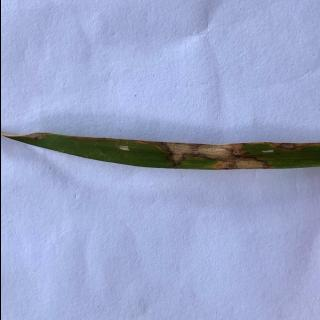Hawar-Daun: (128, 139, 274, 171), (260, 142, 320, 152), (0, 132, 54, 140), (116, 143, 132, 152)
